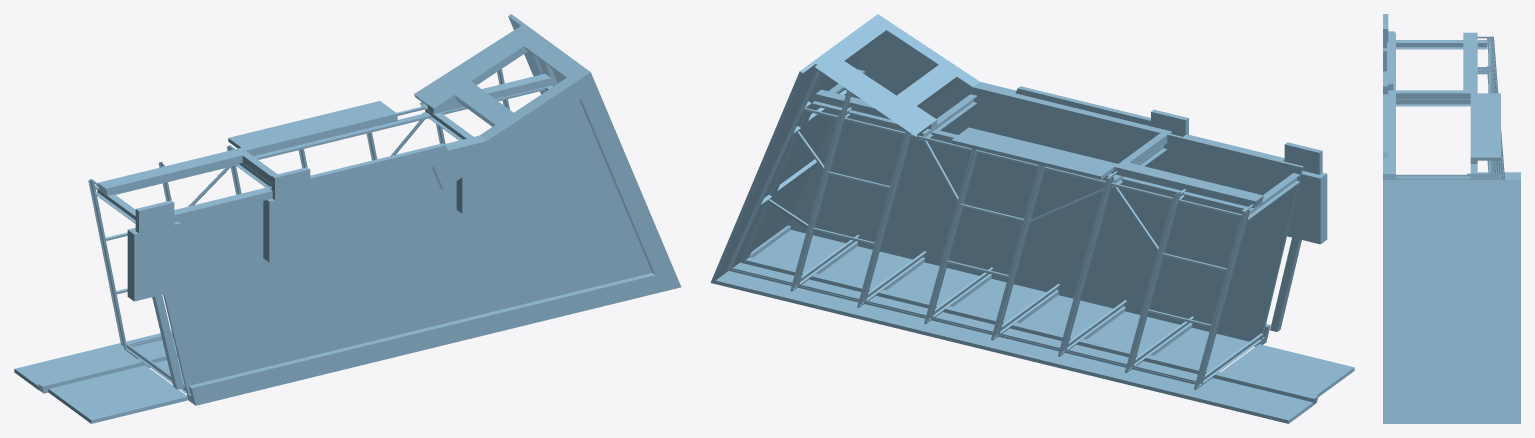
File: example.glb
3 views of the same model, side by side, from view 1: azimuth 30°, elevation 25°; view 2: azimuth 150°, elevation 25°; view 3: azimuth 270°, elevation 25° (orthographic). The views are drawn at different scales.
Bounding box in the file's own units: 25.3 × 9.74 × 5.92.
